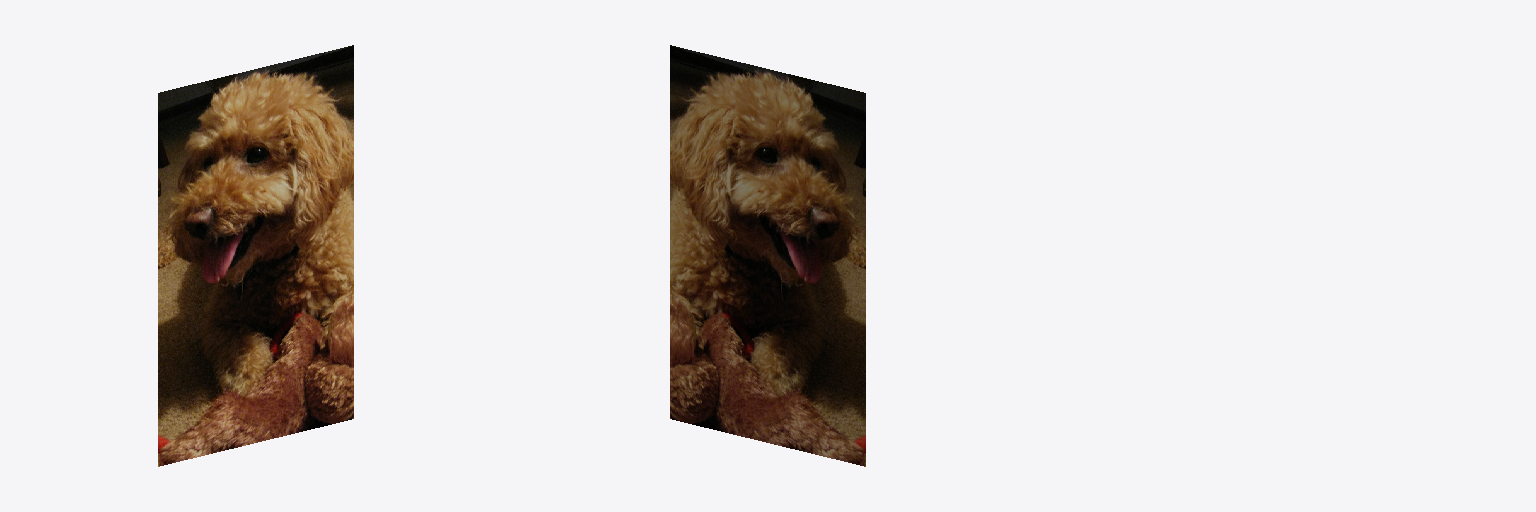
The picture shows the model from 3 angles: view 1: azimuth 30°, elevation 25°; view 2: azimuth 150°, elevation 25°; view 3: azimuth 270°, elevation 25°; orthographic projection.
Parts seen in each view (by area): view 1: Cube.003_Cube.014; view 2: Cube.003_Cube.014; view 3: none.
Boxes of the visible parts, x1,y1,x2,y2 form: Cube.003_Cube.014: [158, 45, 353, 466]; Cube.003_Cube.014: [670, 45, 865, 466].
Size of the model in its own units: 0.679 by 1.23 by 0.
Materials: 1 (1 with a texture image).